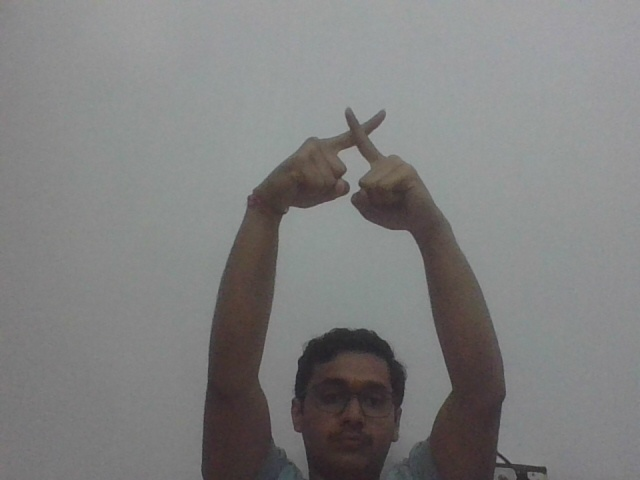X: (284, 104, 432, 226)
